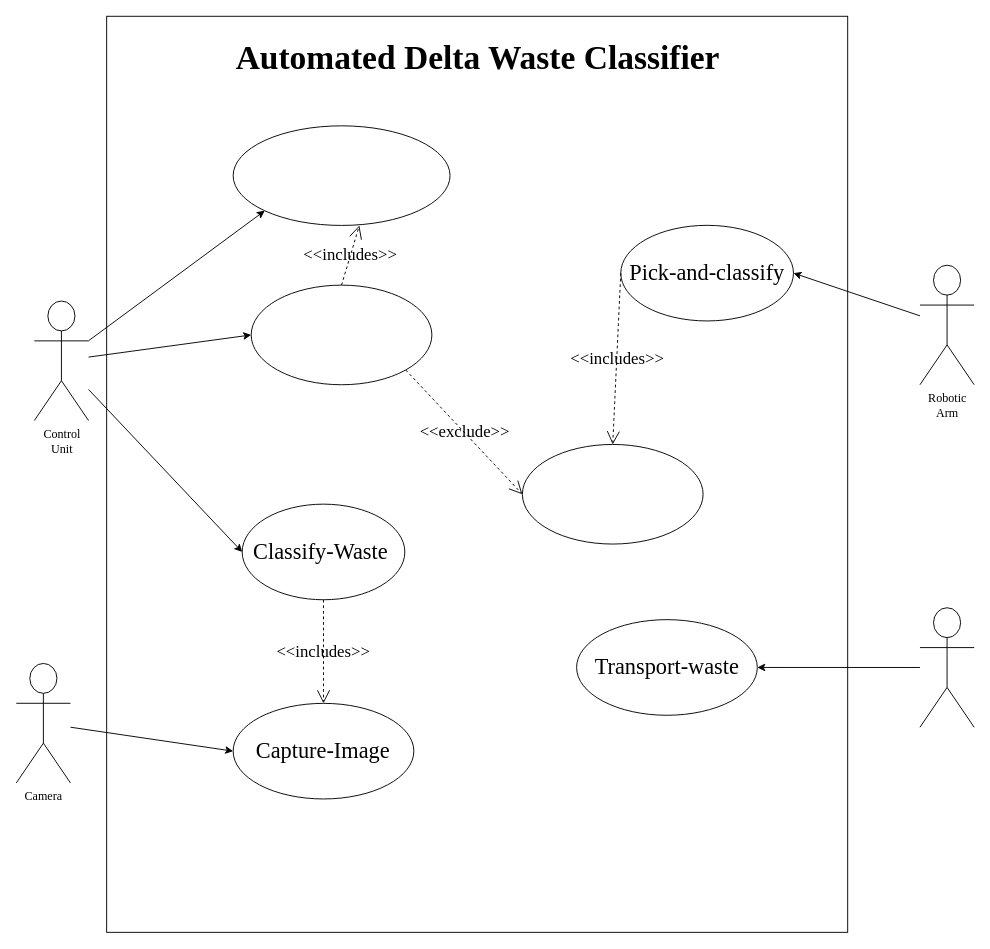
Some shapes in this 990 by 949 pixel diagram are drawn without their labels. Each missing label, with the centre of its shape:
Calculate-Coordinate: point 341,175
Conveyor Belt: point 946,667
Send-Coordinate: point 612,494
Transform -Coordinate: point 341,334
